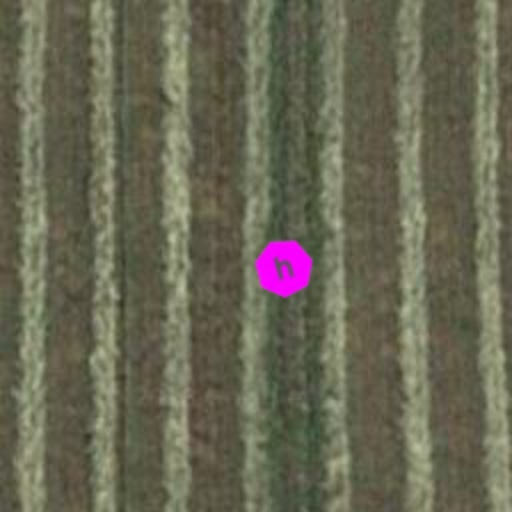heptagon: (246, 230, 322, 306)
